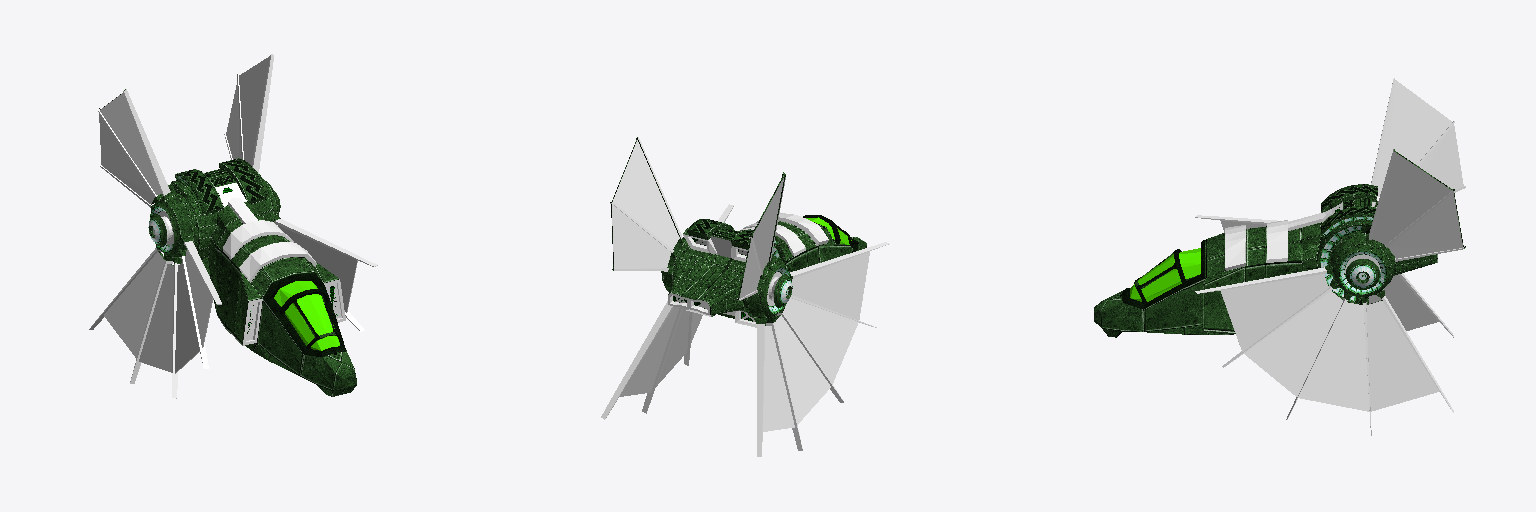
3 views of the same model, side by side, from view 1: azimuth 30°, elevation 25°; view 2: azimuth 150°, elevation 25°; view 3: azimuth 270°, elevation 25° (orthographic).
Visible parts, largest first — view 1: BD_Elite; view 2: BD_Elite; view 3: BD_Elite.
Part boxes in pixels (left/top/right/bottom): BD_Elite: left=89, top=54, right=377, bottom=398; BD_Elite: left=601, top=137, right=889, bottom=456; BD_Elite: left=1094, top=78, right=1465, bottom=435.
Size of the model in its own units: 31.09 by 52.71 by 62.21.
5 materials, 3 textured.